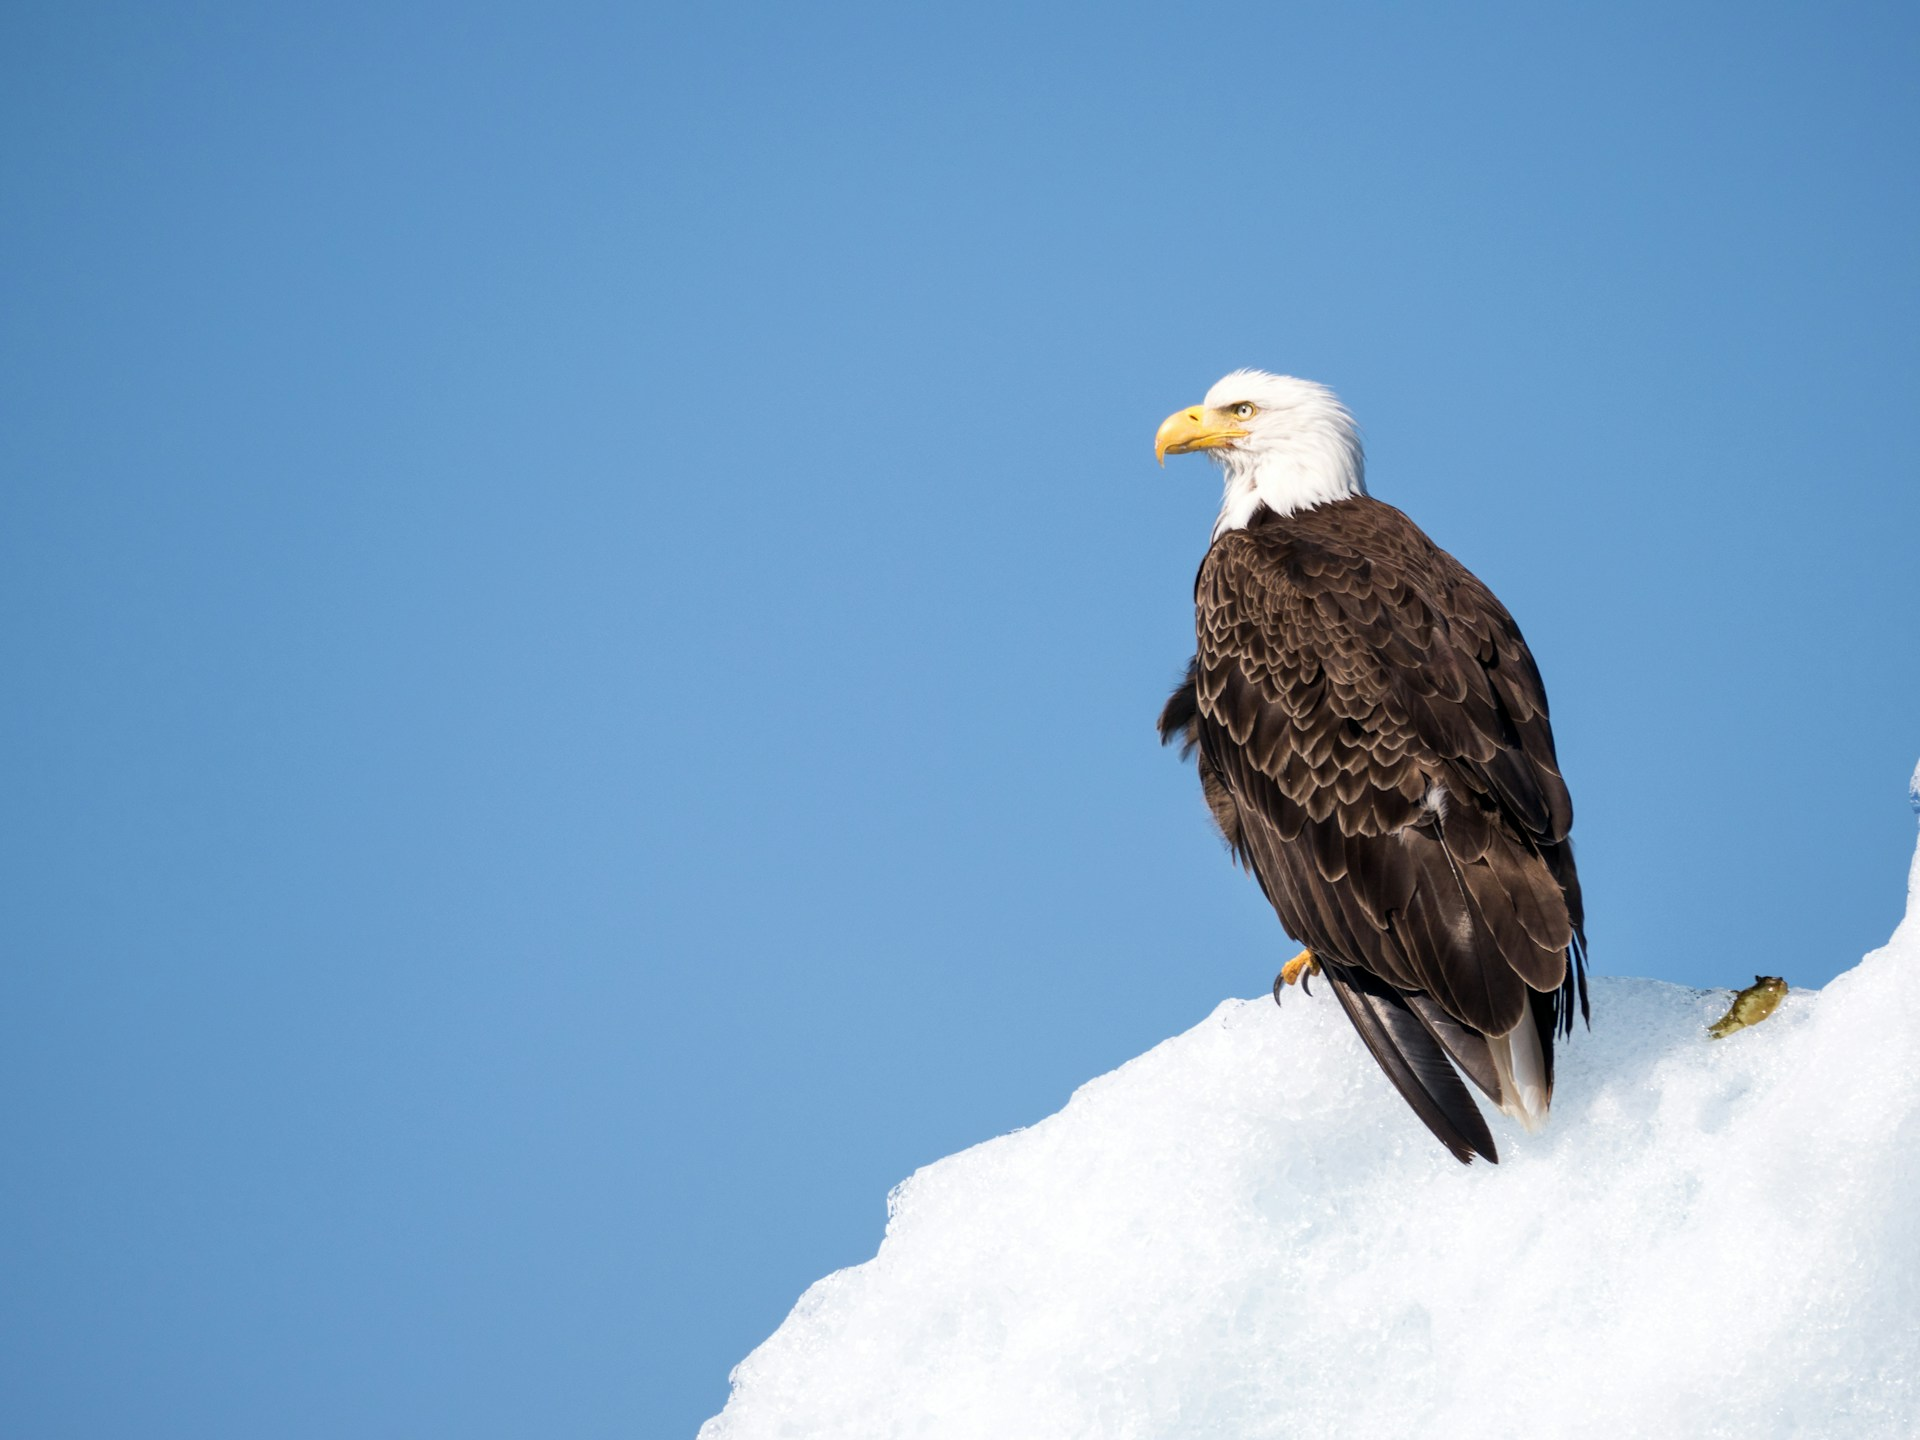eagle: (1126, 346, 1610, 1183)
